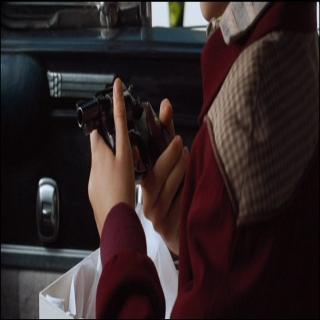gun: (73, 71, 190, 211)
